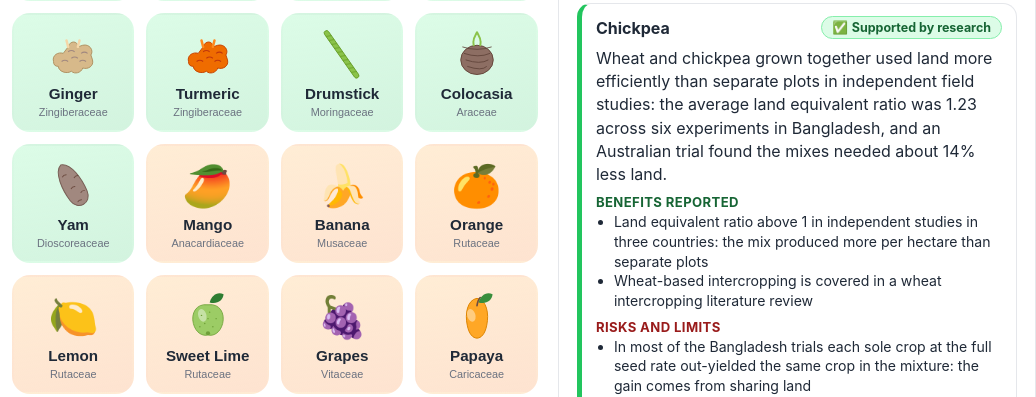
Test case: a crop with no verified pairing is explained, with sourced alternatives, never left blank
This screenshot has width=1036, height=397.
(page scrolled)
Click the button "🥭 Mango Anacardiaceae": (208, 204) [146, 144, 269, 263]
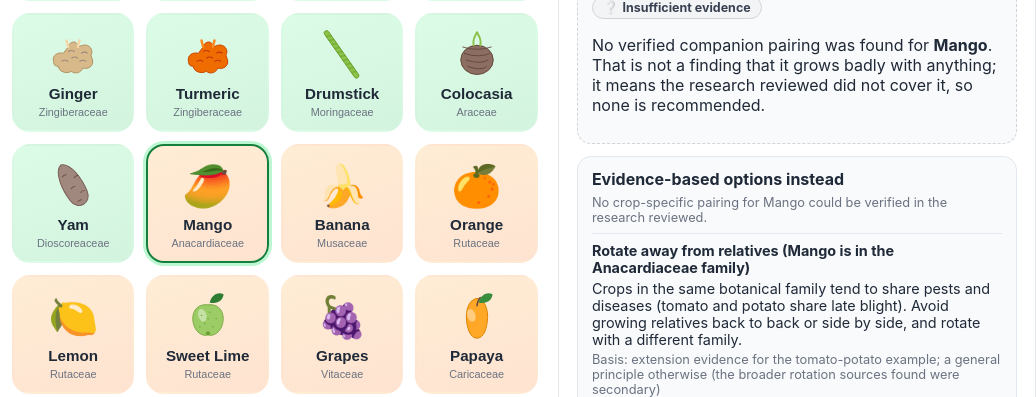
Expected: the text "No verified companion pairing was found for" is shown, [592, 35, 934, 55]
Expected: the text "Rotate away from relatives" is shown, [592, 242, 894, 276]
